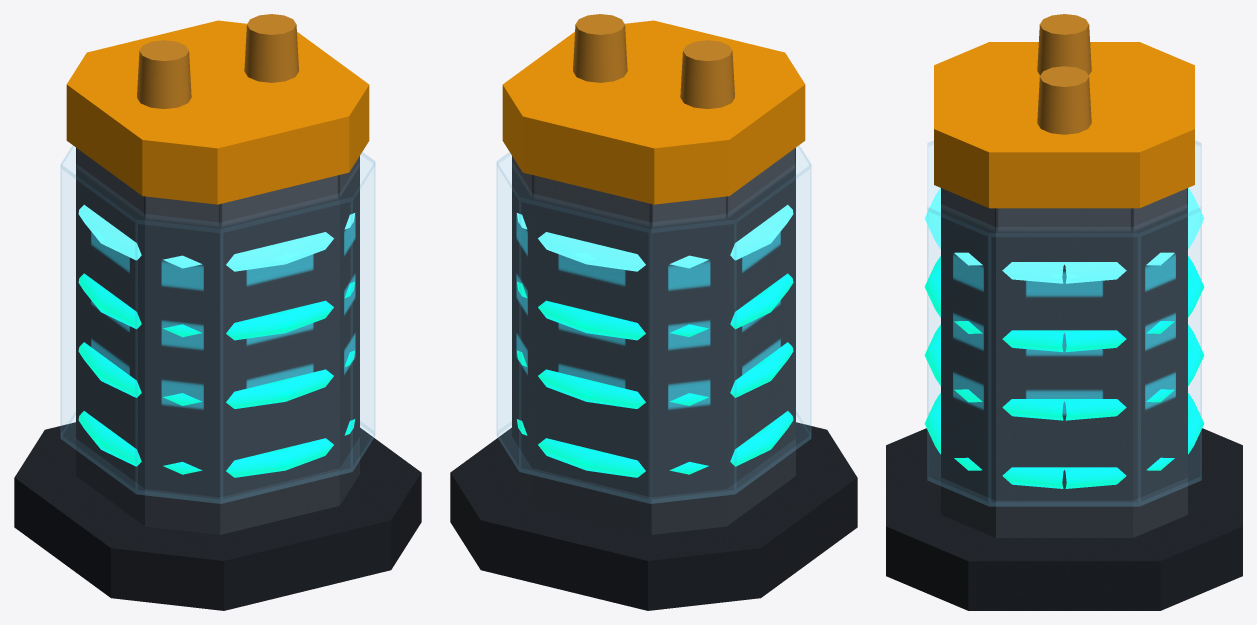
Rendered from prop_pickup_battery_charge.glb.
The picture shows the model from 3 angles, left to right: view 1: azimuth 30°, elevation 25°; view 2: azimuth 150°, elevation 25°; view 3: azimuth 270°, elevation 25°; orthographic projection.
Parts seen in each view (by area): view 1: BatteryCharge_Root; view 2: BatteryCharge_Root; view 3: BatteryCharge_Root.
Part boxes in pixels (left/top/right/bottom): BatteryCharge_Root: left=14, top=14, right=421, bottom=610; BatteryCharge_Root: left=450, top=14, right=857, bottom=610; BatteryCharge_Root: left=886, top=14, right=1242, bottom=610.
Size of the model in its own units: 0.26 by 0.39 by 0.26.
Materials: 7 (7 with a texture image).
